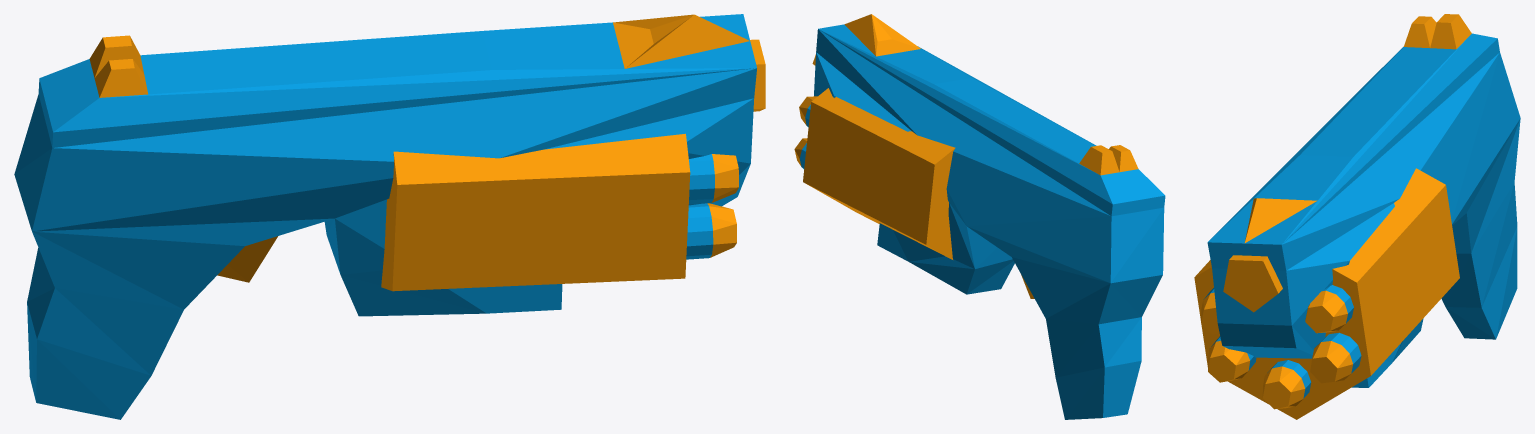
The model's file is gun.glb.
3 renders of one model, left to right at view 1: azimuth 30°, elevation 25°; view 2: azimuth 150°, elevation 25°; view 3: azimuth 270°, elevation 25°, orthographic. The views are drawn at different scales.
Visible parts, largest first — view 1: group1277069929; view 2: group1277069929; view 3: group1277069929.
Part boxes in pixels (box(x1,y1,x2,y2)): group1277069929: box(14, 14, 765, 419); group1277069929: box(794, 14, 1165, 419); group1277069929: box(1194, 14, 1520, 419).
Bounding box in the file's own units: 1.17 × 0.7039 × 0.659.
